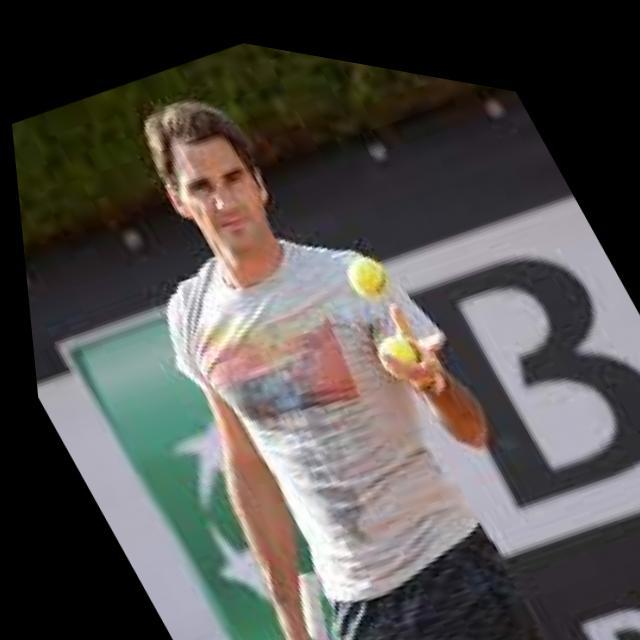Nonhelmet: (140, 95, 283, 264)
